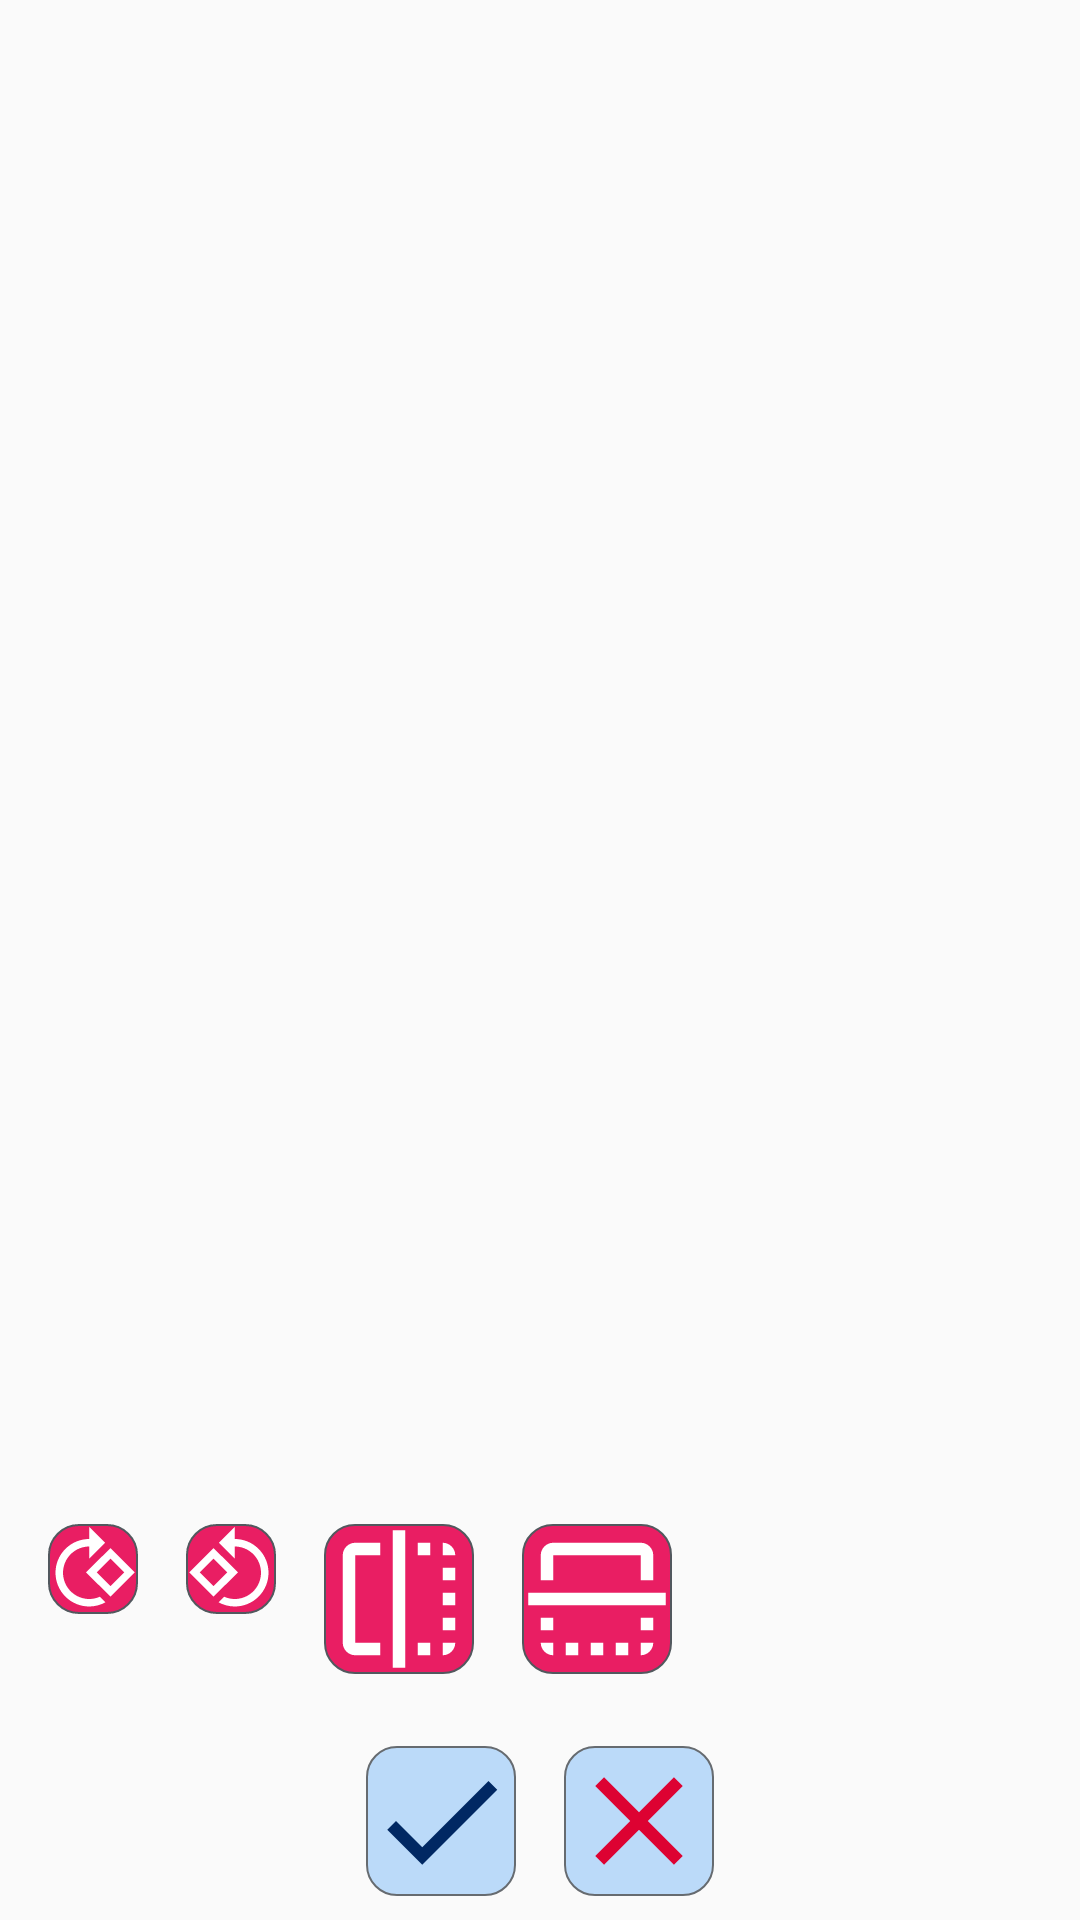

Screen size 1080*1920. Icon name, then its center in pixels as [x,y]:
close: [639,1821]
done: [441,1821]
